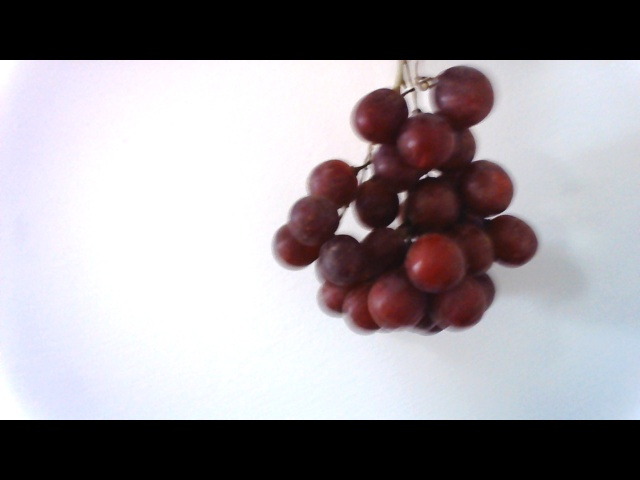grape: (273, 70, 540, 337)
